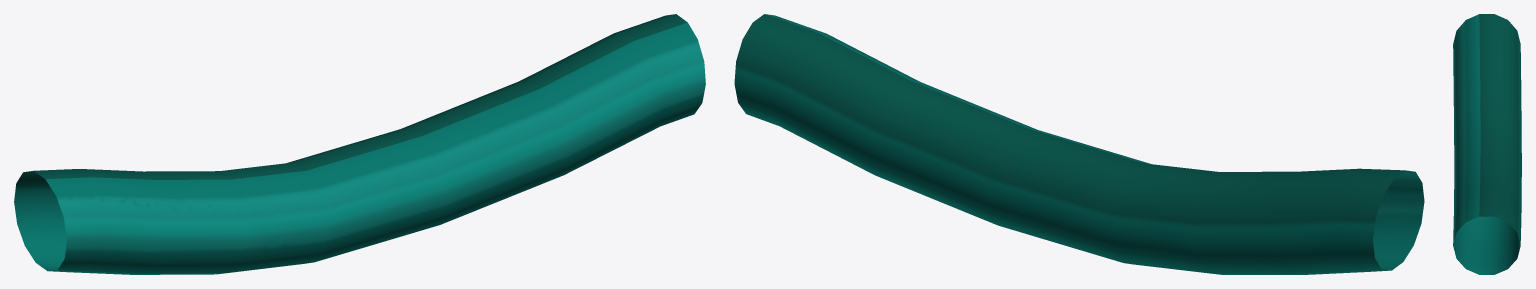
Rendered from SM_Big_Wire_05.fbx.
3 renders of one model, left to right at view 1: azimuth 30°, elevation 25°; view 2: azimuth 150°, elevation 25°; view 3: azimuth 270°, elevation 25°, orthographic. The views are drawn at different scales.
Visible parts, largest first — view 1: SM_Big_Wire_05; view 2: SM_Big_Wire_05; view 3: SM_Big_Wire_05.
Boxes of the visible parts, <box> form: SM_Big_Wire_05: <box>14,14,705,274</box>; SM_Big_Wire_05: <box>734,14,1424,274</box>; SM_Big_Wire_05: <box>1453,14,1521,274</box>.
Size of the model in its own units: 5.82 by 1.28 by 0.8341.
